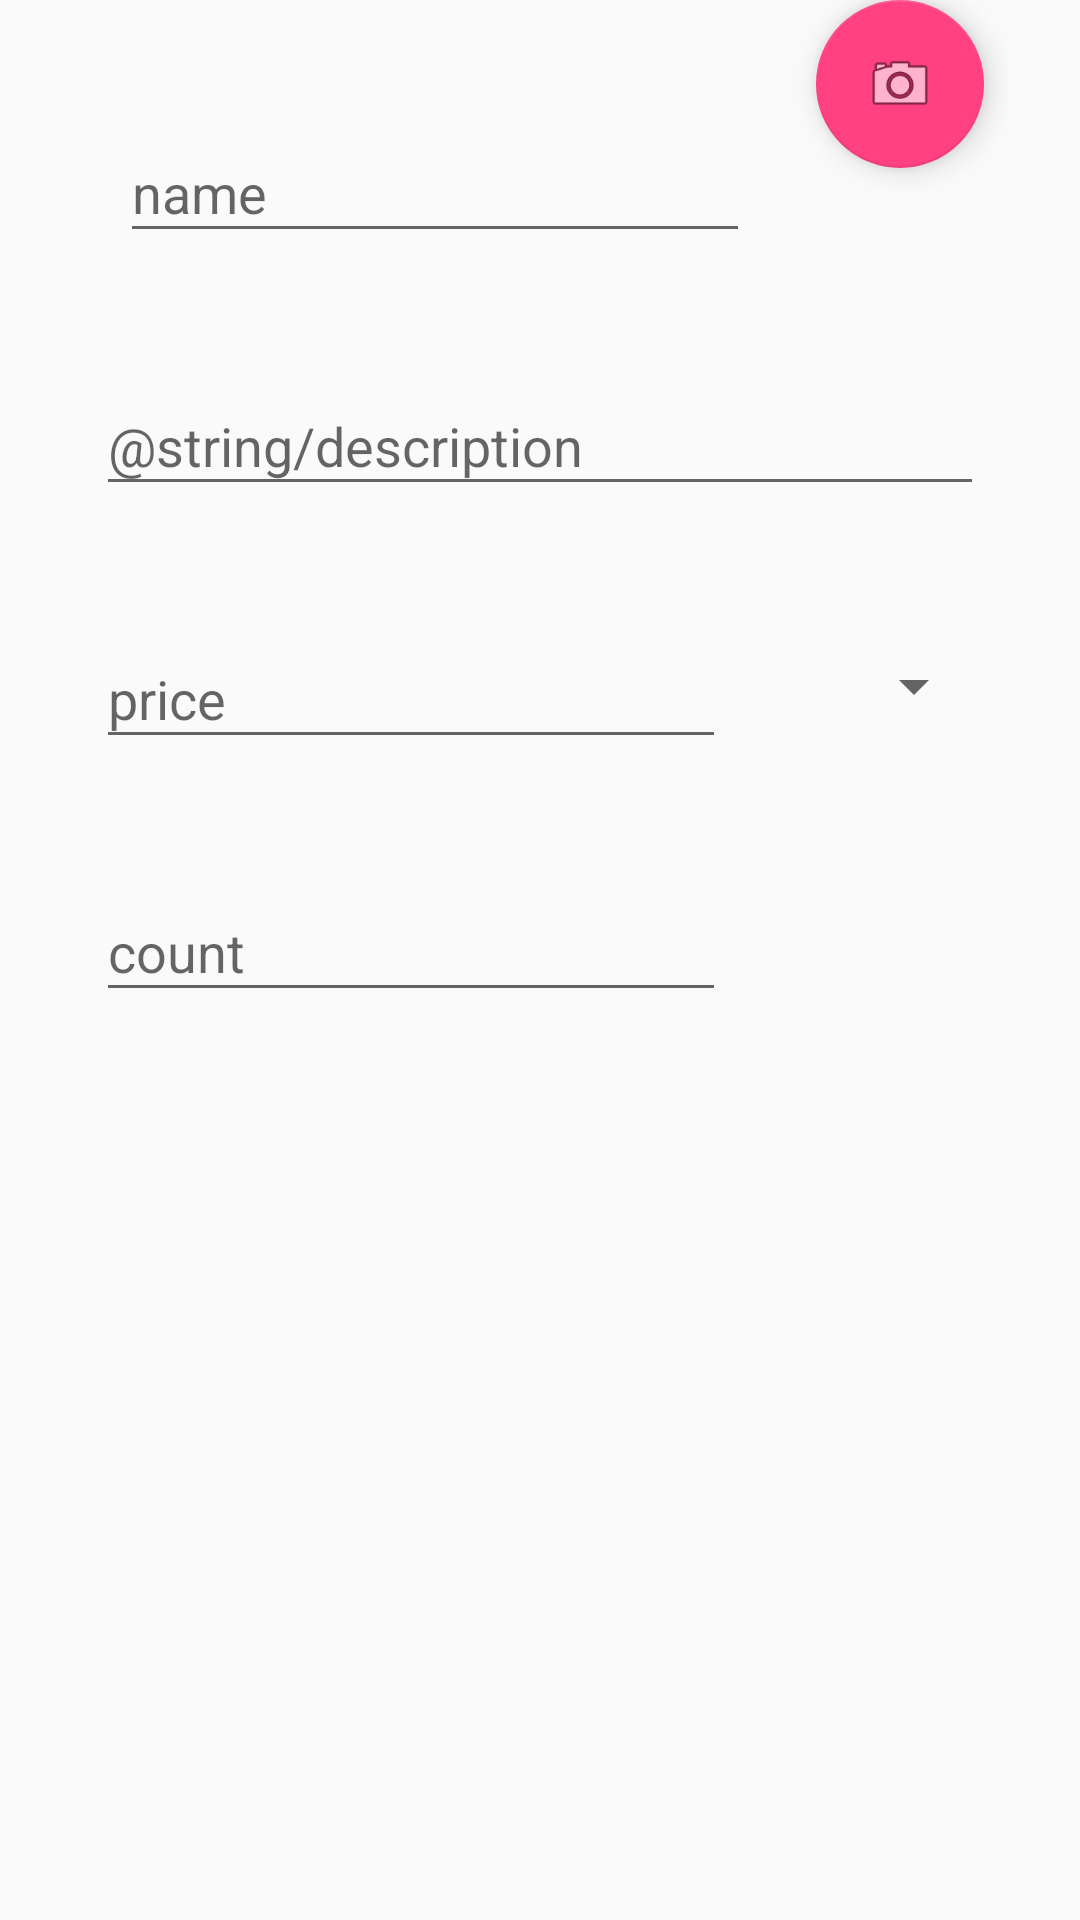

Where to tap for icons on this 1080 × 1920 app screen, as (x,y):
camera: (900,84)
